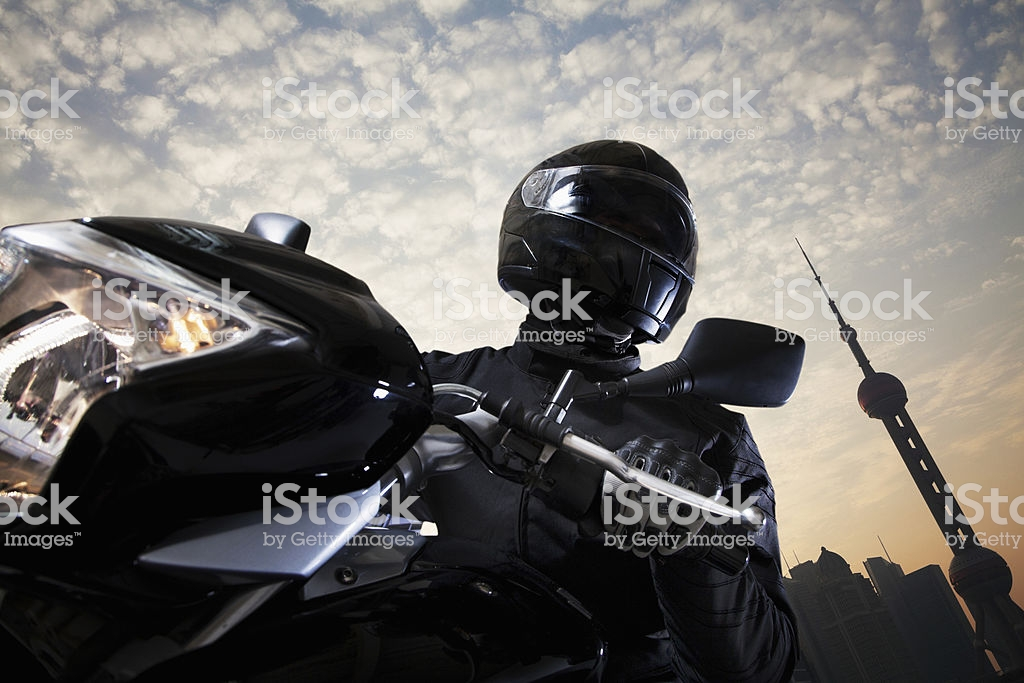helmet: (499, 149, 700, 330)
